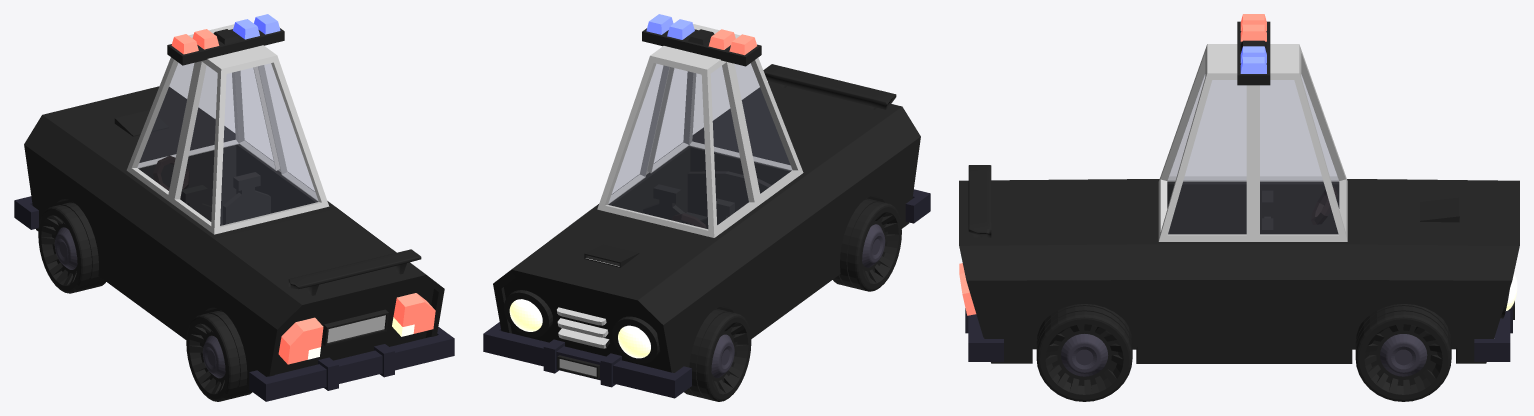
The model's file is PoliceAuto.fbx.
3 renders of one model, left to right at view 1: azimuth 30°, elevation 25°; view 2: azimuth 150°, elevation 25°; view 3: azimuth 270°, elevation 25°, orthographic. The views are drawn at different scales.
Parts seen in each view (by area): view 1: Cube.002; view 2: Cube.002; view 3: Cube.002.
Boxes of the visible parts, box(x1,y1,x2,y2) form: Cube.002: box(14, 14, 454, 401); Cube.002: box(483, 14, 930, 401); Cube.002: box(959, 14, 1519, 401).
Size of the model in its own units: 653 by 914 by 1490.
